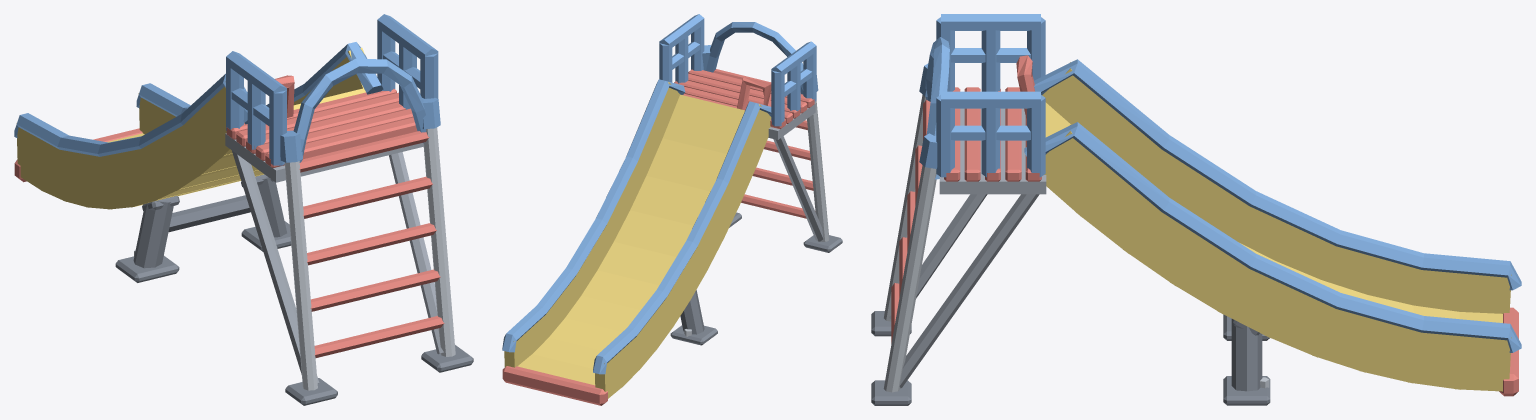
Rendered from Slide.fbx.
The picture shows the model from 3 angles, left to right: view 1: azimuth 30°, elevation 25°; view 2: azimuth 150°, elevation 25°; view 3: azimuth 270°, elevation 25°; orthographic projection. The views are drawn at different scales.
Parts seen in each view (by area): view 1: Slide.Railings, Slide.SlatsAndRungs, Slide.Chute, Slide.FeetAndPosts, Slide.LadderRails, Slide.Frame; view 2: Slide.Chute, Slide.Railings, Slide.SlatsAndRungs, Slide.Frame, Slide.FeetAndPosts, Slide.LadderRails; view 3: Slide.Chute, Slide.Railings, Slide.Frame, Slide.SlatsAndRungs, Slide.LadderRails, Slide.FeetAndPosts.
Boxes of the visible parts, bbox=[...] form: Slide.Railings: bbox=[14, 14, 440, 165]; Slide.SlatsAndRungs: bbox=[14, 75, 444, 357]; Slide.Chute: bbox=[16, 47, 365, 209]; Slide.FeetAndPosts: bbox=[115, 174, 473, 405]; Slide.LadderRails: bbox=[134, 127, 455, 390]; Slide.Frame: bbox=[225, 133, 443, 383]; Slide.Chute: bbox=[504, 82, 771, 398]; Slide.Railings: bbox=[502, 14, 818, 374]; Slide.SlatsAndRungs: bbox=[502, 69, 814, 405]; Slide.Frame: bbox=[768, 103, 823, 241]; Slide.FeetAndPosts: bbox=[670, 212, 842, 345]; Slide.LadderRails: bbox=[684, 70, 829, 336]; Slide.Chute: bbox=[1042, 62, 1511, 391]; Slide.Railings: bbox=[919, 14, 1521, 352]; Slide.Frame: bbox=[889, 108, 1046, 388]; Slide.SlatsAndRungs: bbox=[891, 55, 1518, 396]; Slide.LadderRails: bbox=[883, 94, 1269, 392]; Slide.FeetAndPosts: bbox=[871, 311, 1270, 405].
Size of the model in its own units: 3.56 by 5.98 by 11.05.
